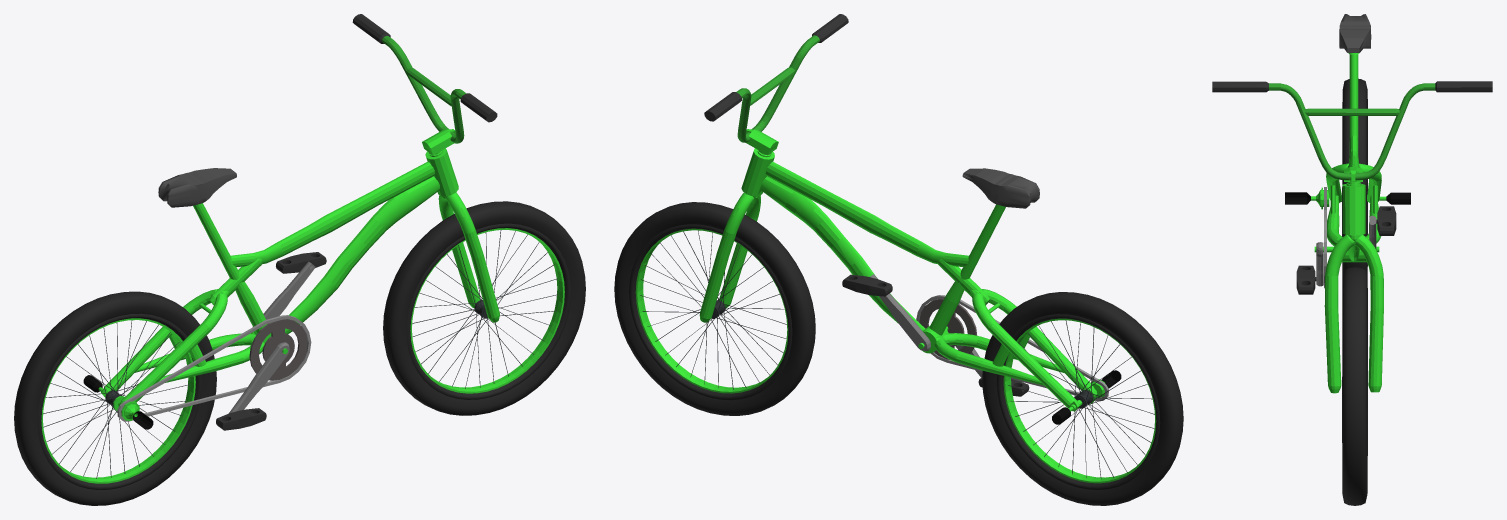
Rendered from o3_bici_bmx.glb.
The picture shows the model from 3 angles, left to right: view 1: azimuth 30°, elevation 25°; view 2: azimuth 150°, elevation 25°; view 3: azimuth 270°, elevation 25°; orthographic projection. The views are drawn at different scales.
Parts seen in each view (by area): view 1: sb_modello; view 2: sb_modello; view 3: sb_modello.
Part boxes in pixels (bbox=[...]): sb_modello: bbox=[14, 14, 585, 505]; sb_modello: bbox=[614, 14, 1183, 505]; sb_modello: bbox=[1212, 14, 1492, 505].
Size of the model in its own units: 1.58 by 0.97 by 0.6443.
